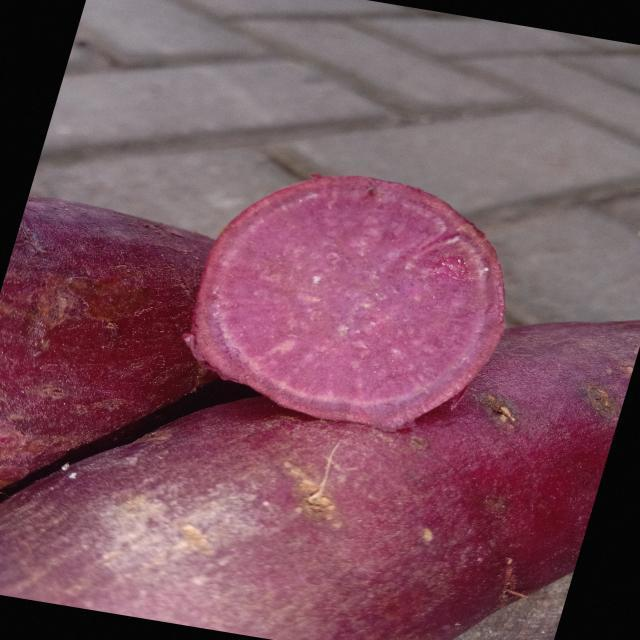Healthy Sweet Potato: (193, 176, 505, 431)
